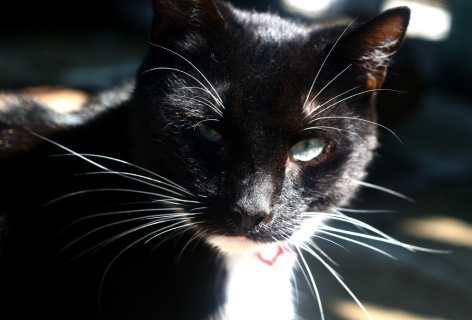Cat: (0, 0, 455, 319)
